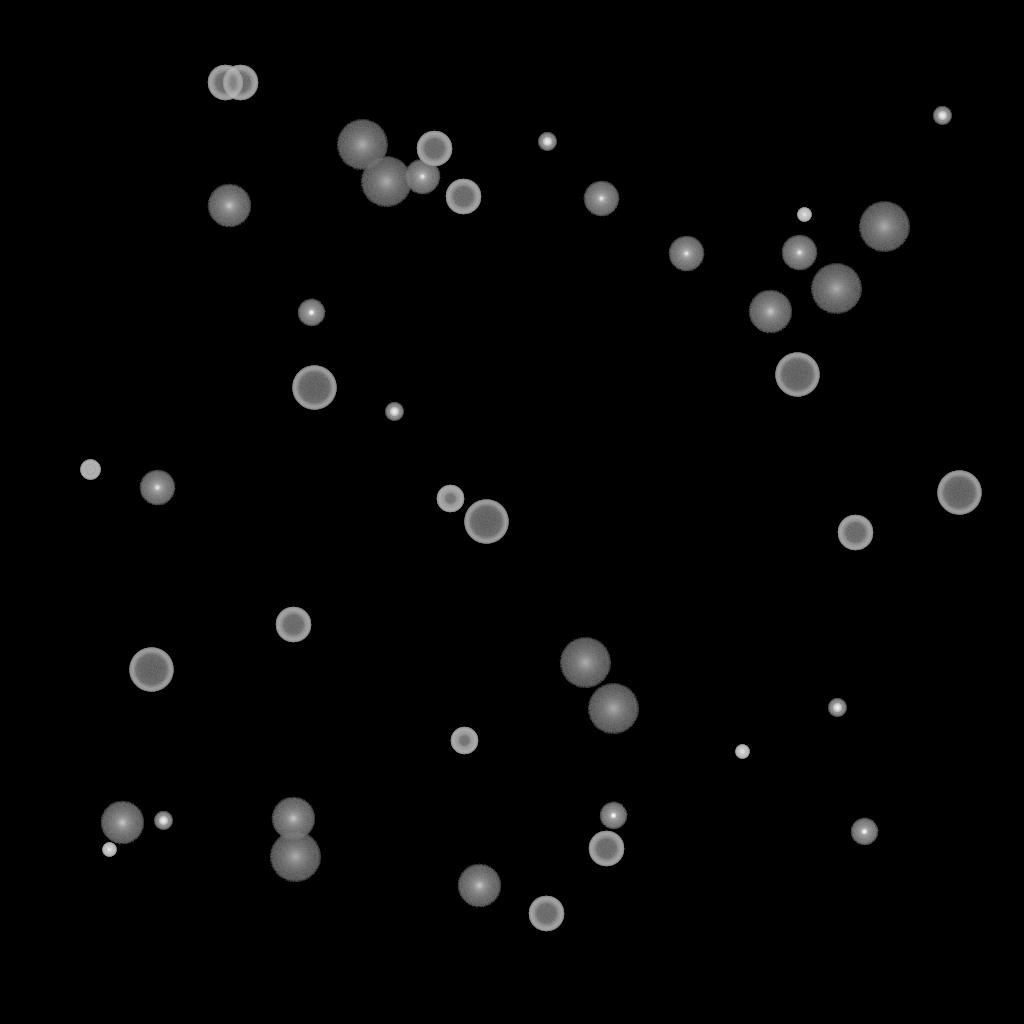depth:-10: (850, 818, 878, 846), (297, 299, 325, 327), (599, 802, 627, 830)
depth:-20: (538, 133, 556, 151), (933, 107, 951, 125), (385, 403, 403, 421), (828, 699, 846, 717), (154, 812, 172, 830)
depth:-30: (735, 745, 749, 759), (102, 843, 116, 857), (797, 208, 811, 222)
depth:-40: (80, 460, 100, 480)
depth:-50: (436, 485, 464, 513), (450, 727, 478, 755)
depth:-60: (528, 896, 564, 932), (275, 607, 311, 643), (416, 131, 452, 167), (445, 179, 481, 215), (207, 65, 243, 101), (837, 515, 873, 551), (222, 65, 258, 101), (588, 831, 624, 867)
depth:-70: (292, 366, 336, 410), (937, 471, 981, 515), (129, 648, 173, 692), (464, 500, 508, 544), (775, 353, 819, 397)
depth:0: (583, 181, 619, 217), (668, 236, 704, 272), (781, 235, 817, 271), (404, 159, 440, 195), (139, 470, 175, 506)
depth:10: (271, 797, 315, 841), (457, 864, 501, 908), (748, 290, 792, 334), (207, 184, 251, 228), (100, 801, 144, 845)
depth:20: (559, 638, 611, 688), (810, 264, 862, 314), (587, 684, 639, 734), (336, 120, 388, 170), (269, 832, 321, 882), (360, 157, 412, 207), (858, 202, 910, 252)
